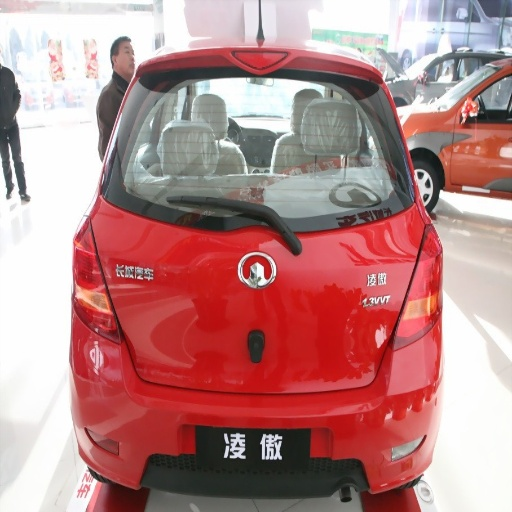back_bumper: (71, 312, 439, 504)
tailgate: (95, 225, 140, 360)
